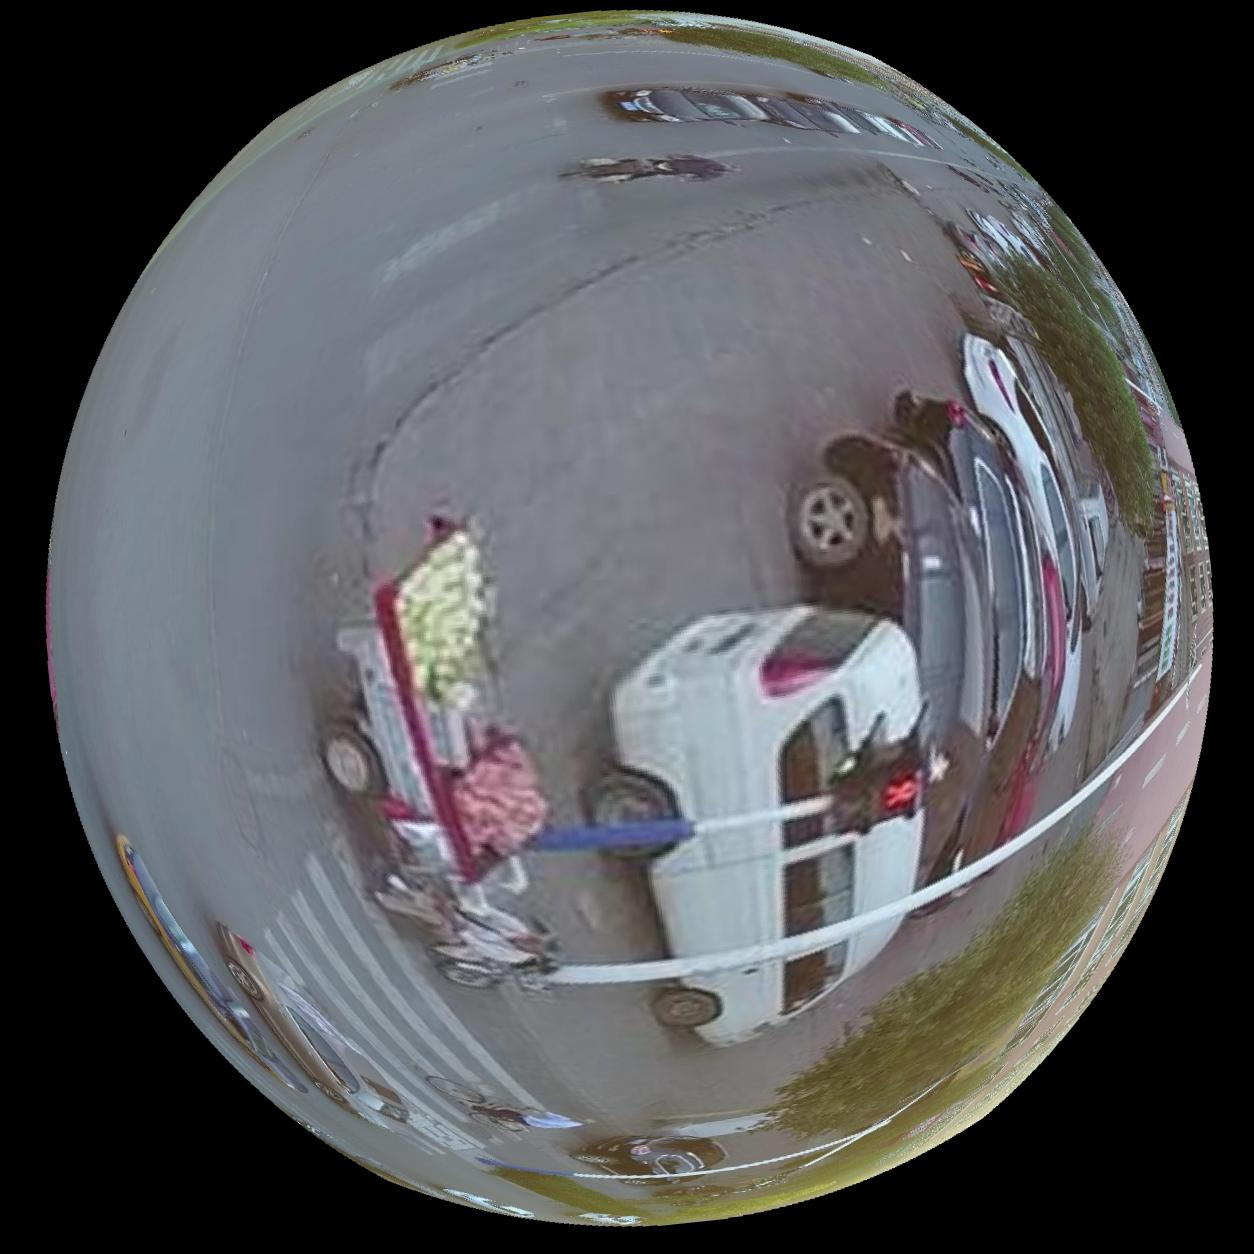cars: (319, 519, 558, 990), (789, 432, 993, 856), (585, 604, 922, 823), (962, 332, 1082, 751), (113, 835, 302, 1093), (648, 812, 923, 958), (219, 934, 408, 1125), (652, 919, 901, 1048), (610, 85, 766, 119), (752, 93, 862, 132)
